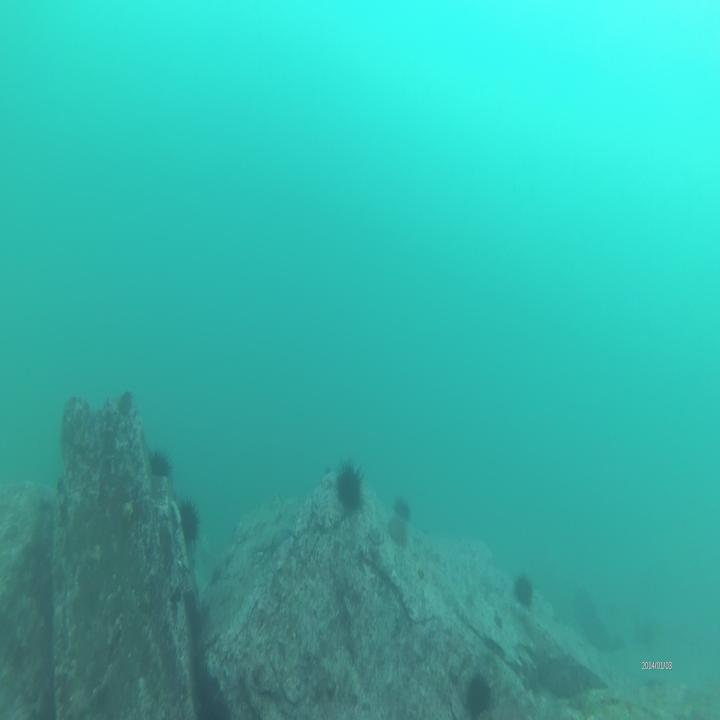echinus: (173, 486, 207, 550), (333, 449, 365, 516), (462, 666, 495, 716), (510, 558, 538, 615), (146, 441, 174, 485), (386, 505, 411, 546), (393, 488, 415, 526)
